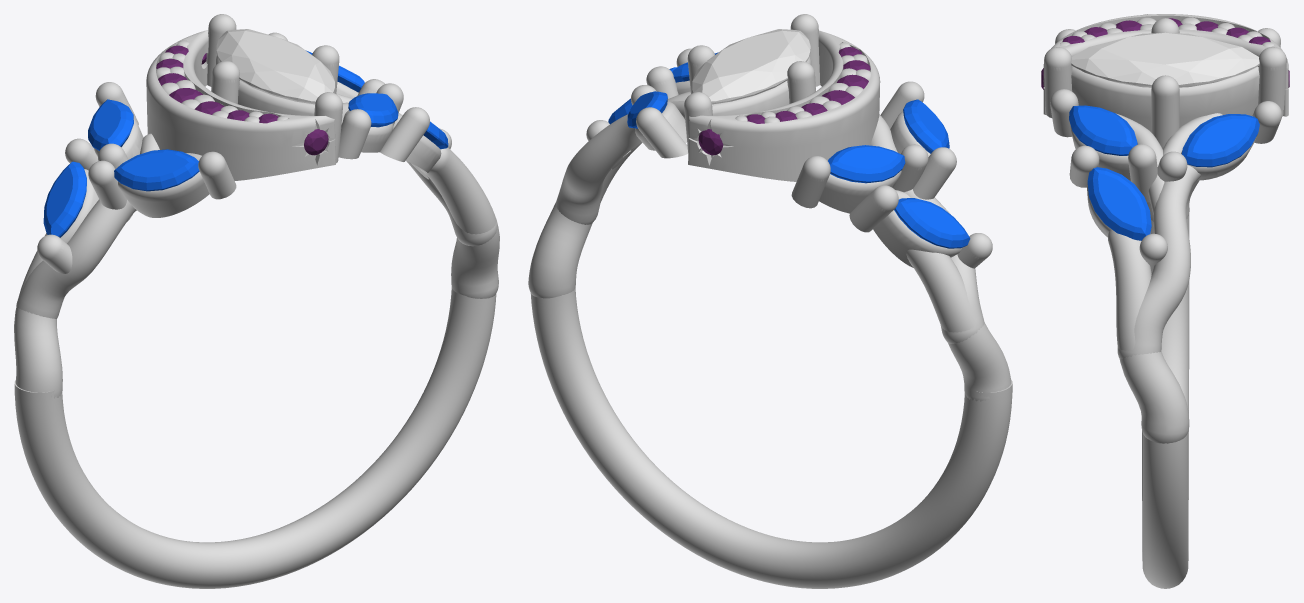
Rendered from AlexV6eng.glb.
The picture shows the model from 3 angles, left to right: view 1: azimuth 30°, elevation 25°; view 2: azimuth 150°, elevation 25°; view 3: azimuth 270°, elevation 25°; orthographic projection.
Parts seen in each view (by area): view 1: V6 Alex PT for 3d model, Alex dia for 3d model, V6 Alex sapph for 3d model.004, V6 Alex sapph for 3d model.001, Alex alexandrite for 3d model, V6 Alex sapph for 3d model.003, V6 Alex sapph for 3d model.005; view 2: V6 Alex PT for 3d model, Alex dia for 3d model, V6 Alex sapph for 3d model.001, V6 Alex sapph for 3d model.003, Alex alexandrite for 3d model, V6 Alex sapph for 3d model.004, V6 Alex sapph for 3d model.002; view 3: V6 Alex PT for 3d model, Alex dia for 3d model, V6 Alex sapph for 3d model, V6 Alex sapph for 3d model.002, V6 Alex sapph for 3d model.005, Alex alexandrite for 3d model.
Boxes of the visible parts, x1=… form: V6 Alex PT for 3d model: x1=14, y1=14, x2=499, y2=588; Alex dia for 3d model: x1=216, y1=29, x2=334, y2=104; V6 Alex sapph for 3d model.004: x1=114, y1=149, x2=199, y2=191; V6 Alex sapph for 3d model.001: x1=43, y1=161, x2=86, y2=237; Alex alexandrite for 3d model: x1=156, y1=45, x2=328, y2=155; V6 Alex sapph for 3d model.003: x1=88, y1=99, x2=133, y2=150; V6 Alex sapph for 3d model.005: x1=348, y1=93, x2=398, y2=127; V6 Alex PT for 3d model: x1=528, y1=14, x2=1012, y2=588; Alex dia for 3d model: x1=692, y1=29, x2=810, y2=104; V6 Alex sapph for 3d model.001: x1=894, y1=198, x2=970, y2=248; V6 Alex sapph for 3d model.003: x1=828, y1=145, x2=905, y2=183; Alex alexandrite for 3d model: x1=698, y1=47, x2=870, y2=155; V6 Alex sapph for 3d model.004: x1=903, y1=99, x2=949, y2=153; V6 Alex sapph for 3d model.002: x1=627, y1=91, x2=667, y2=128; V6 Alex PT for 3d model: x1=1043, y1=14, x2=1288, y2=588; Alex dia for 3d model: x1=1071, y1=32, x2=1259, y2=87; V6 Alex sapph for 3d model: x1=1087, y1=167, x2=1151, y2=240; V6 Alex sapph for 3d model.002: x1=1181, y1=114, x2=1259, y2=167; V6 Alex sapph for 3d model.005: x1=1069, y1=105, x2=1137, y2=155; Alex alexandrite for 3d model: x1=1041, y1=18, x2=1289, y2=89.
Bounding box in the file's own units: 19.68 × 20.68 × 8.81.
